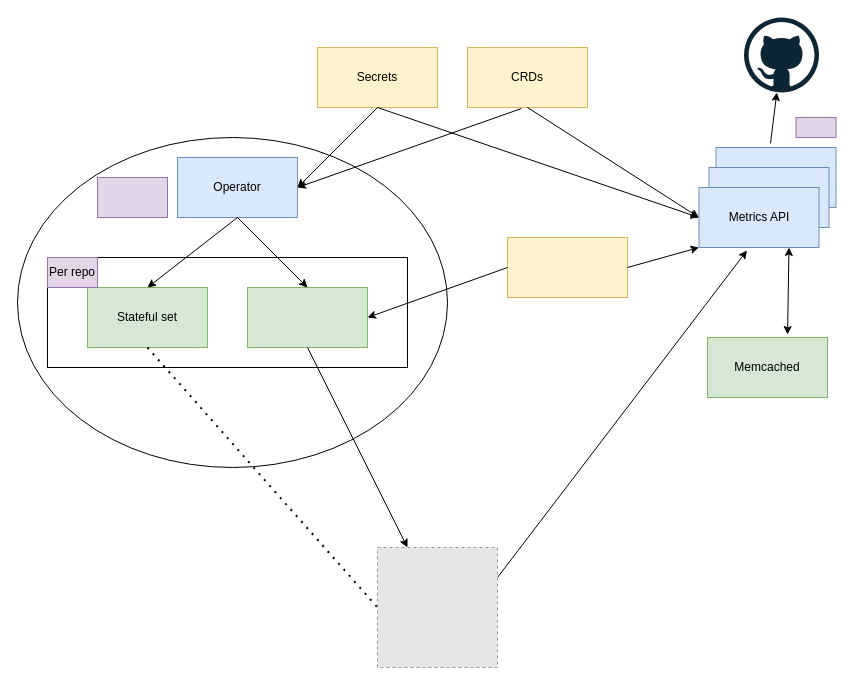
The diagram is 854 pixels wide and 685 high, and some of its shapes have lost their labels. Grey dashed boxes stand in for pictures. Each missing label, with the centre of its shape:
Managed by operator: the point at 132,197
Scaled object: the point at 307,317
TLS cert: the point at 567,267
Xn: the point at 815,127
